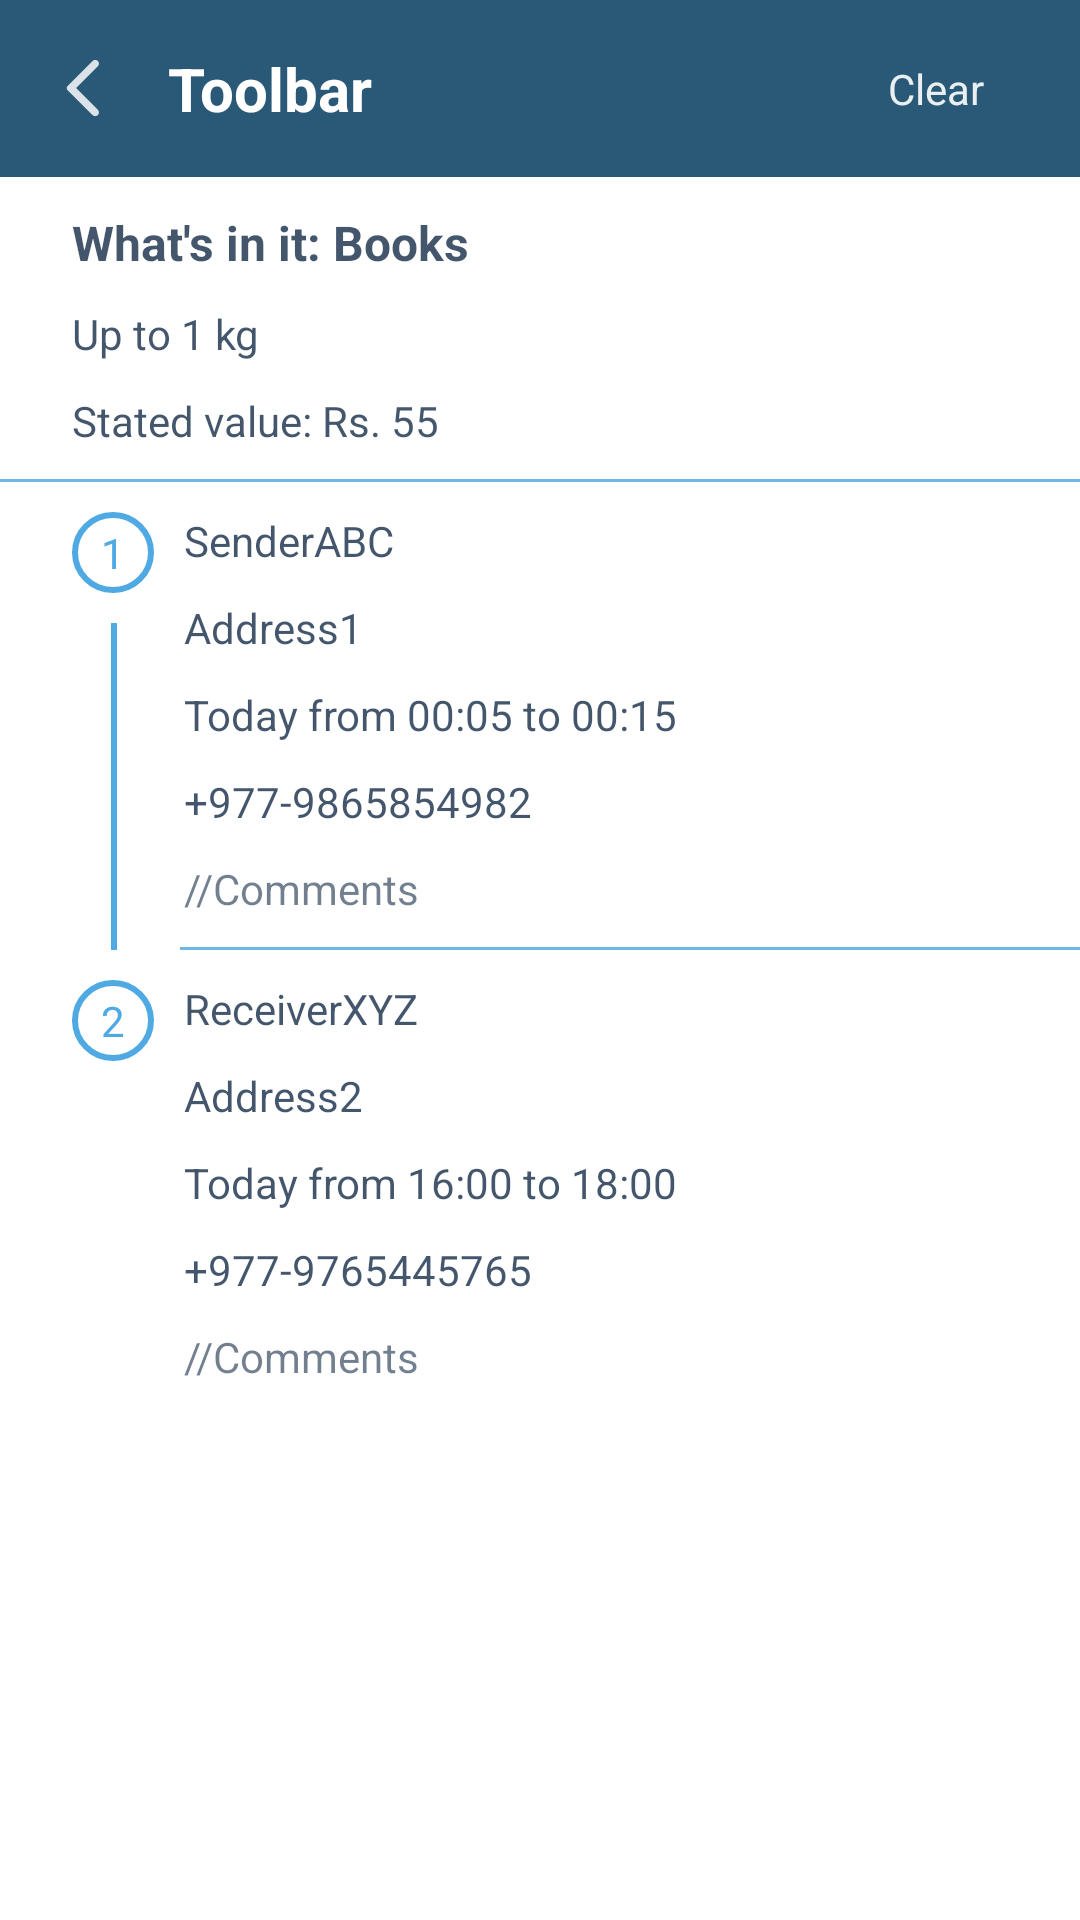

Icon click points for this 1080px×1920px phone screenshot, format (x,y):
arrow back: (82,88)
